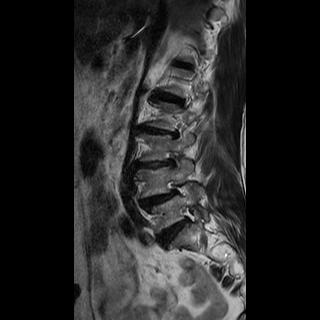RFS0: (175, 199, 202, 231)
